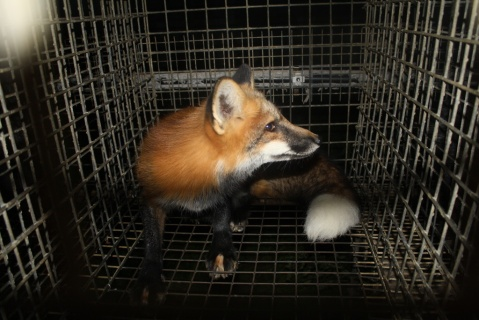Fox: (132, 62, 361, 302)
